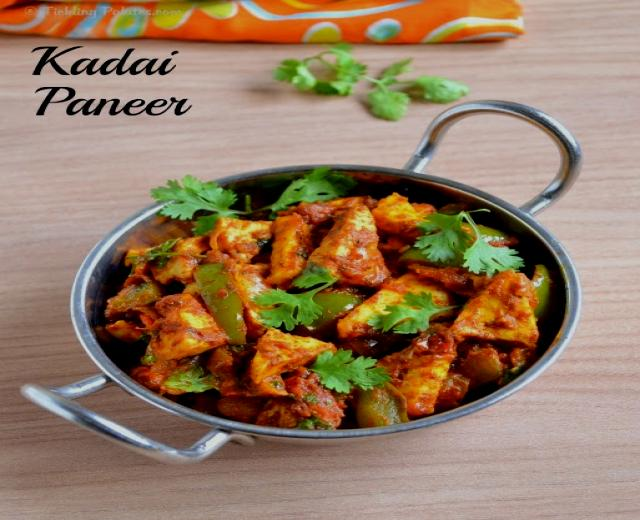kadai paneer: (32, 103, 582, 462), (4, 1, 522, 44), (20, 372, 241, 462), (402, 98, 579, 209), (274, 42, 471, 120), (407, 208, 522, 276), (141, 292, 228, 360), (34, 87, 192, 117), (26, 45, 176, 76), (273, 45, 361, 96), (132, 350, 222, 396), (402, 106, 460, 169), (264, 213, 314, 286), (229, 172, 327, 209), (145, 234, 212, 284), (207, 217, 273, 265), (104, 272, 164, 322), (370, 191, 436, 236), (283, 195, 367, 227), (151, 0, 236, 31), (122, 217, 188, 254), (40, 372, 108, 400), (242, 360, 291, 396), (105, 5, 150, 37), (102, 319, 148, 346), (139, 332, 167, 366)
